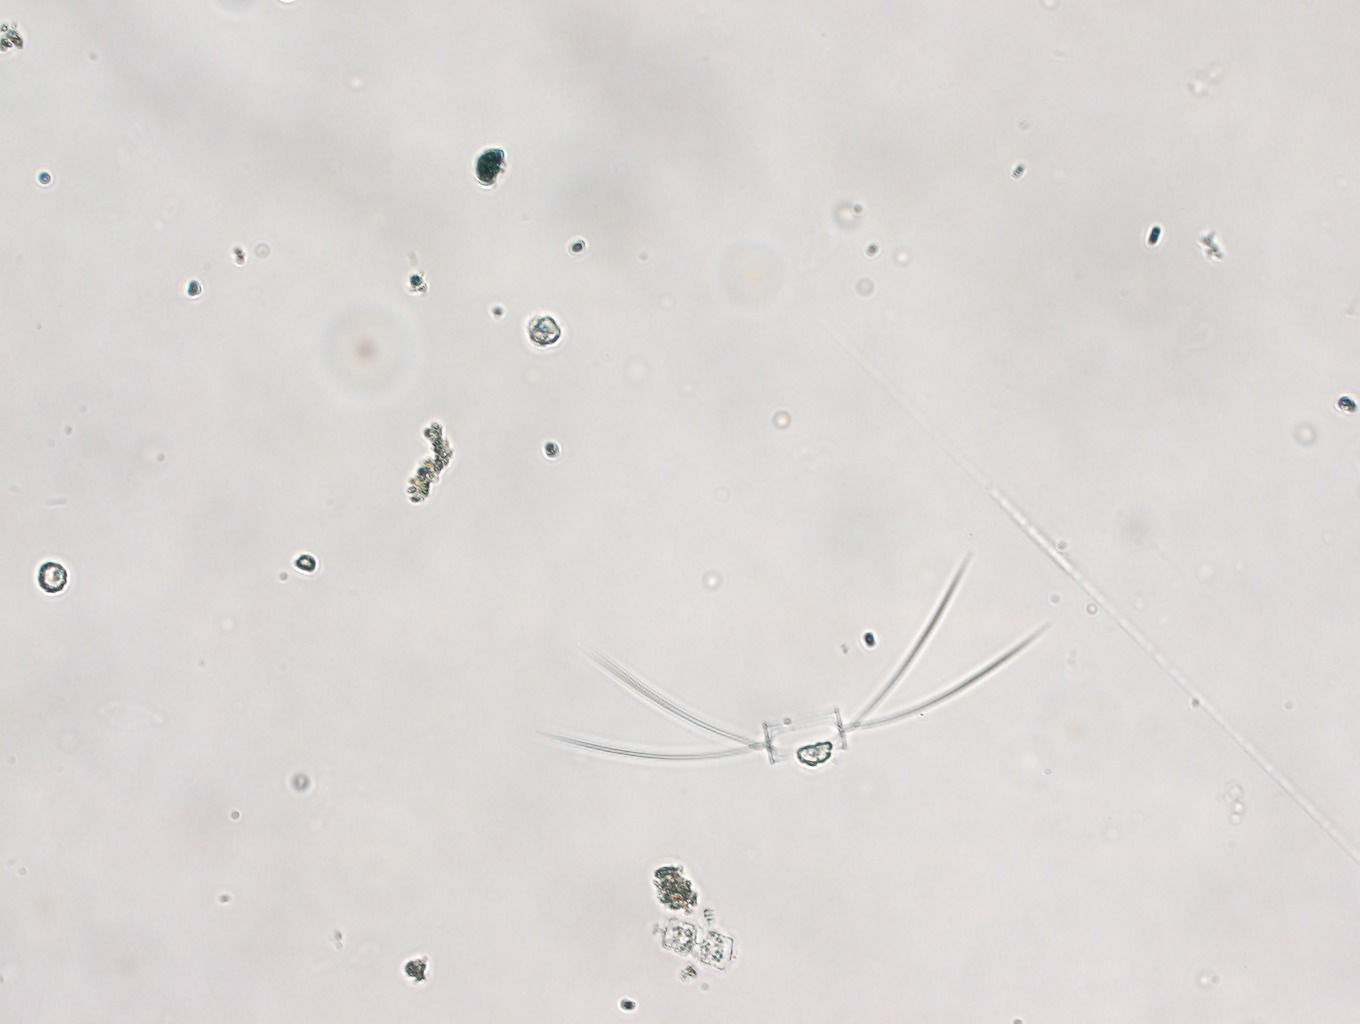chaetoceros: (531, 547, 1051, 779)
